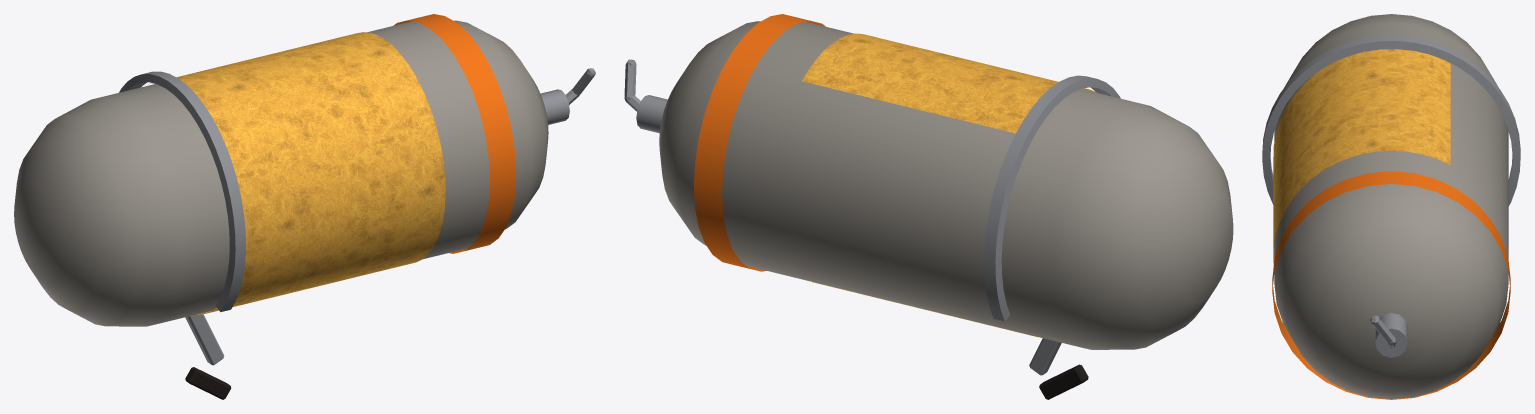
Rendered from debris_tank.obj.
3 views of the same model, side by side, from view 1: azimuth 30°, elevation 25°; view 2: azimuth 150°, elevation 25°; view 3: azimuth 270°, elevation 25° (orthographic). The views are drawn at different scales.
Visible parts, largest first — view 1: debris_tank; view 2: debris_tank; view 3: debris_tank.
Boxes of the visible parts, box(x1,y1,x2,y2) form: debris_tank: box(14, 14, 595, 399); debris_tank: box(624, 14, 1233, 399); debris_tank: box(1262, 14, 1520, 399).
Size of the model in its own units: 3.11 by 1.66 by 1.26.
5 materials, 1 textured.
